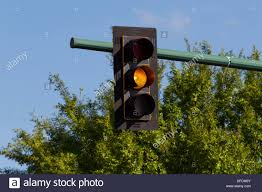amber: (120, 30, 162, 127), (125, 33, 158, 120), (129, 36, 154, 116)
